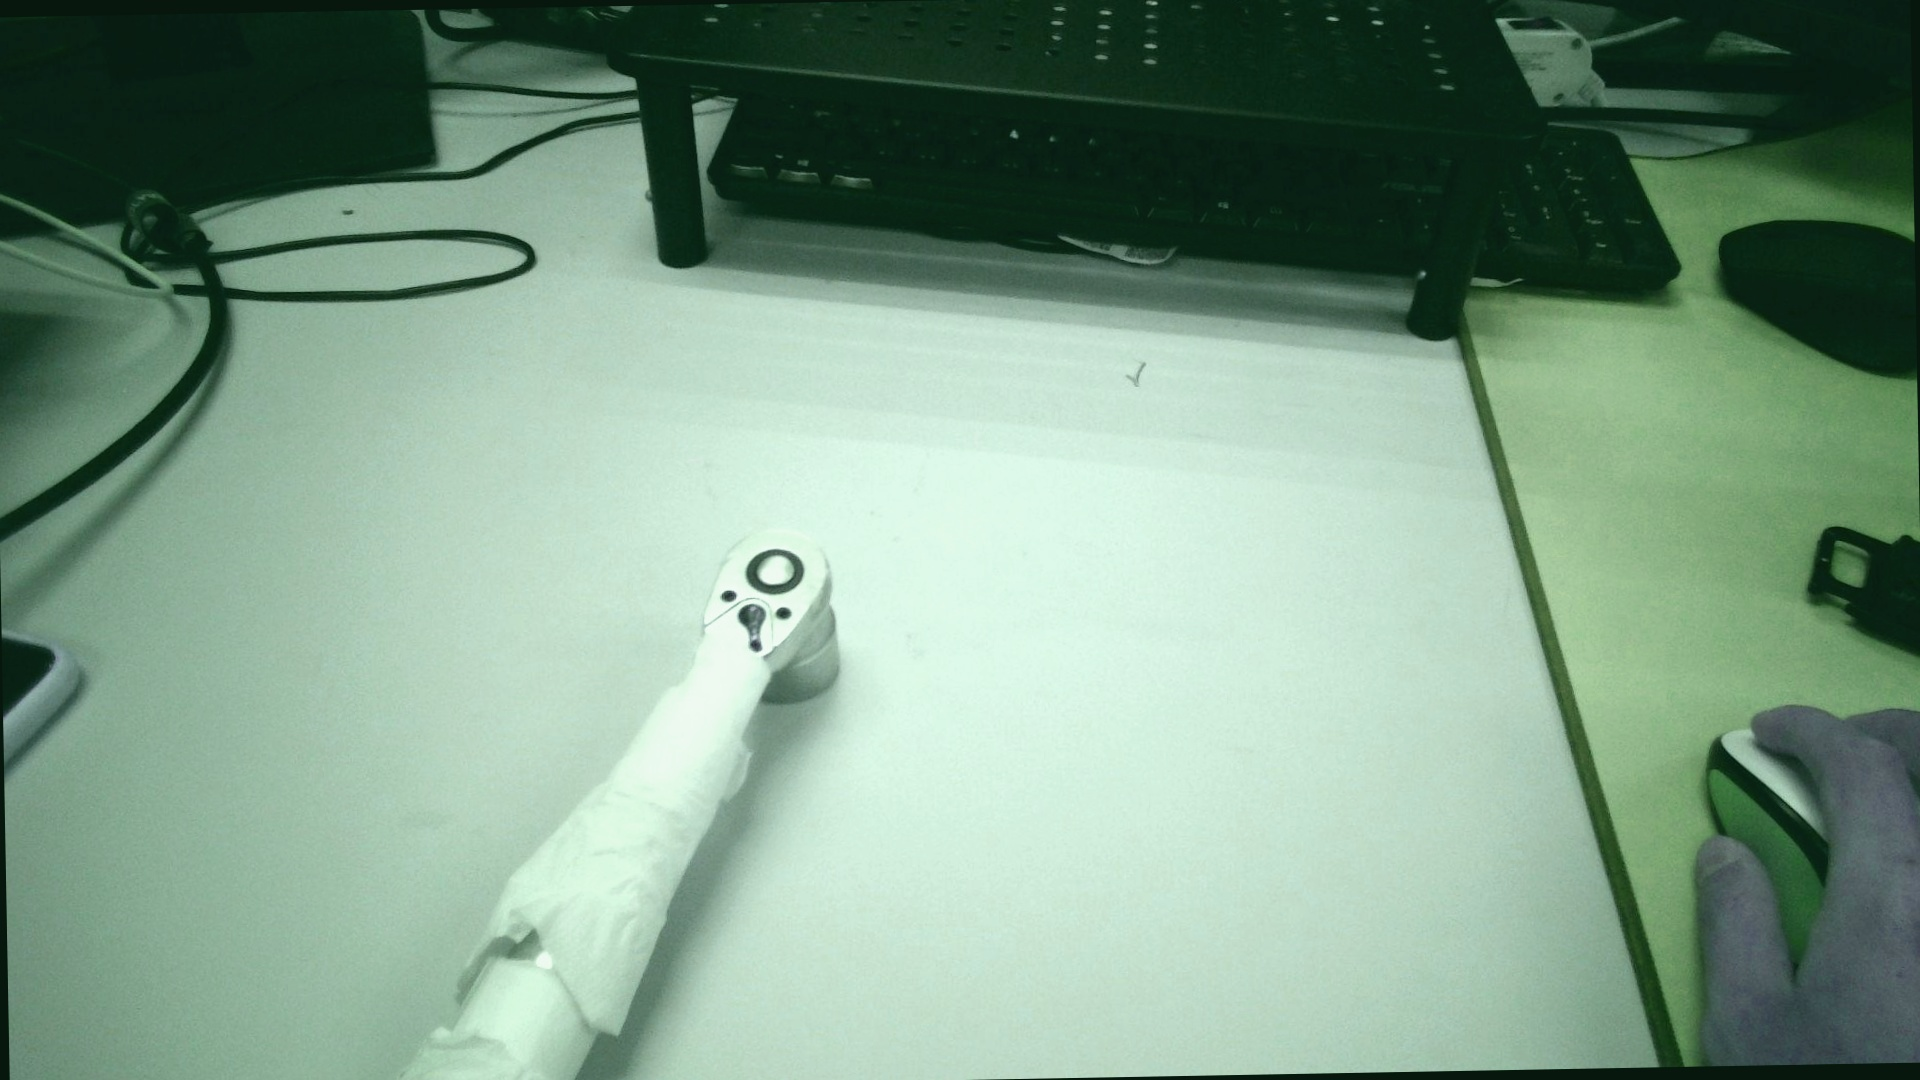wrench: (745, 545, 811, 597)
